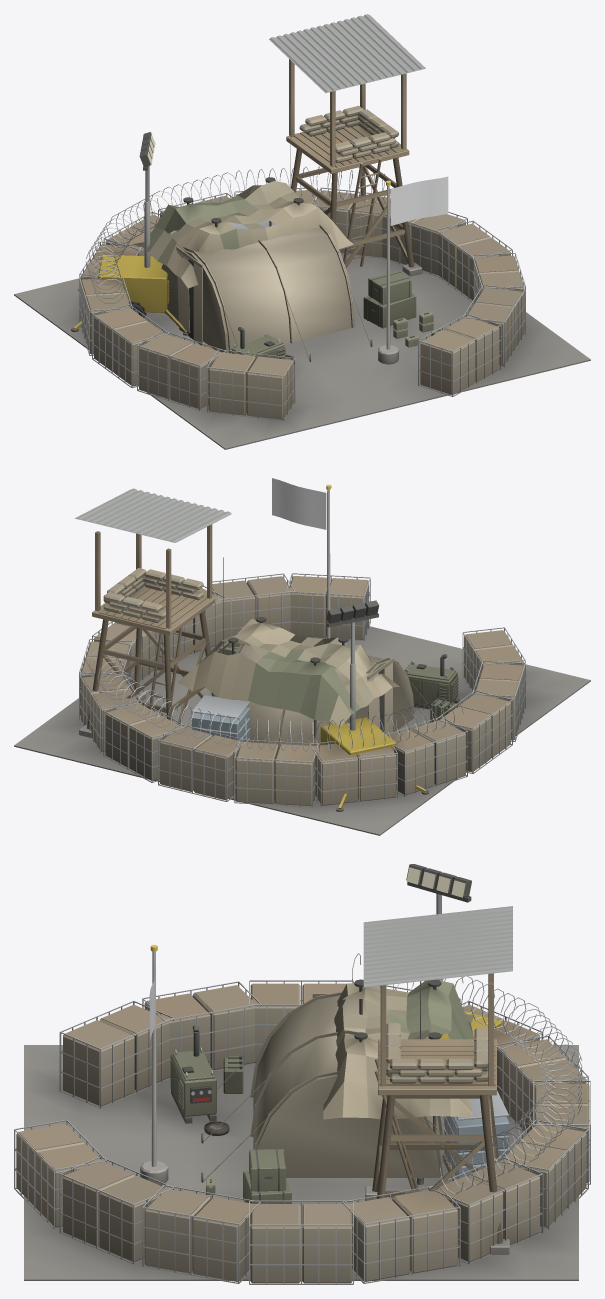
File: struct_fob_usa.glb
3 renders of one model, top to bottom at view 1: azimuth 30°, elevation 25°; view 2: azimuth 150°, elevation 25°; view 3: azimuth 270°, elevation 25°, orthographic. The views are drawn at different scales.
Parts seen in each view (by area): view 1: struct_fob_usa; view 2: struct_fob_usa; view 3: struct_fob_usa.
Part boxes in pixels (left/top/right/bottom): struct_fob_usa: left=14, top=14, right=590, bottom=449; struct_fob_usa: left=14, top=478, right=590, bottom=835; struct_fob_usa: left=14, top=864, right=590, bottom=1284.
Bounding box in the file's own units: 10.22 × 5.63 × 10.18.
